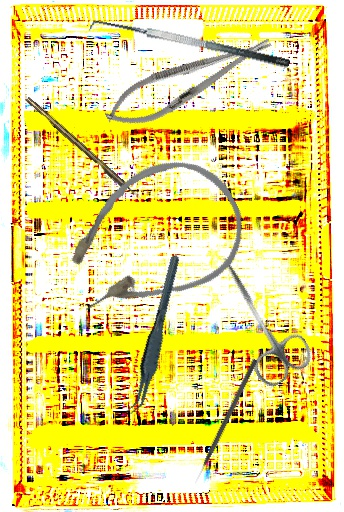Cannula: (39, 137, 264, 342)
Hook Surgical: (24, 95, 143, 203), (191, 357, 259, 486)
Iris Scissors: (196, 244, 318, 391)
Needle Holder: (98, 23, 280, 139)
Spatula Surgical: (87, 9, 291, 86)
Tissue Forceps: (112, 253, 198, 419)
